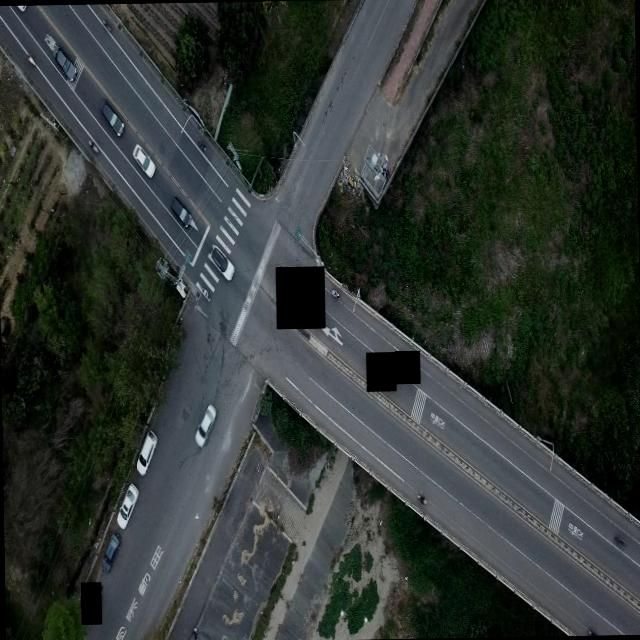bike: (416, 487, 426, 507), (88, 138, 98, 154), (330, 288, 340, 298)
car: (44, 32, 76, 83), (115, 482, 139, 528), (135, 428, 158, 475), (208, 243, 235, 280), (194, 403, 216, 448), (100, 98, 124, 136), (100, 530, 120, 572), (132, 143, 155, 178), (170, 196, 192, 228)
